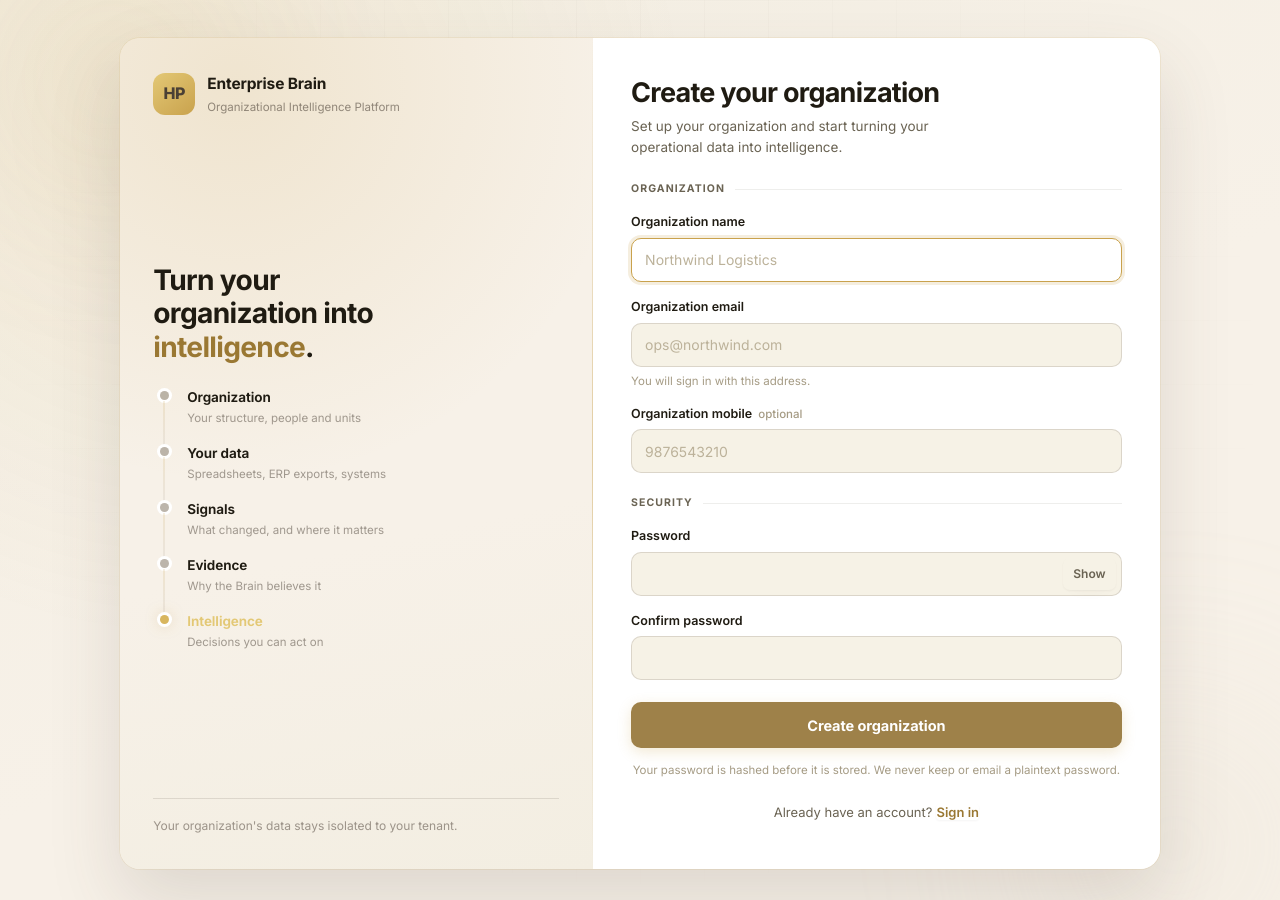
Test: Signup › clears a field error as soon as that field is edited
This screenshot has width=1280, height=900.
Submit the form named "create organization", box [631,182,1122,780]
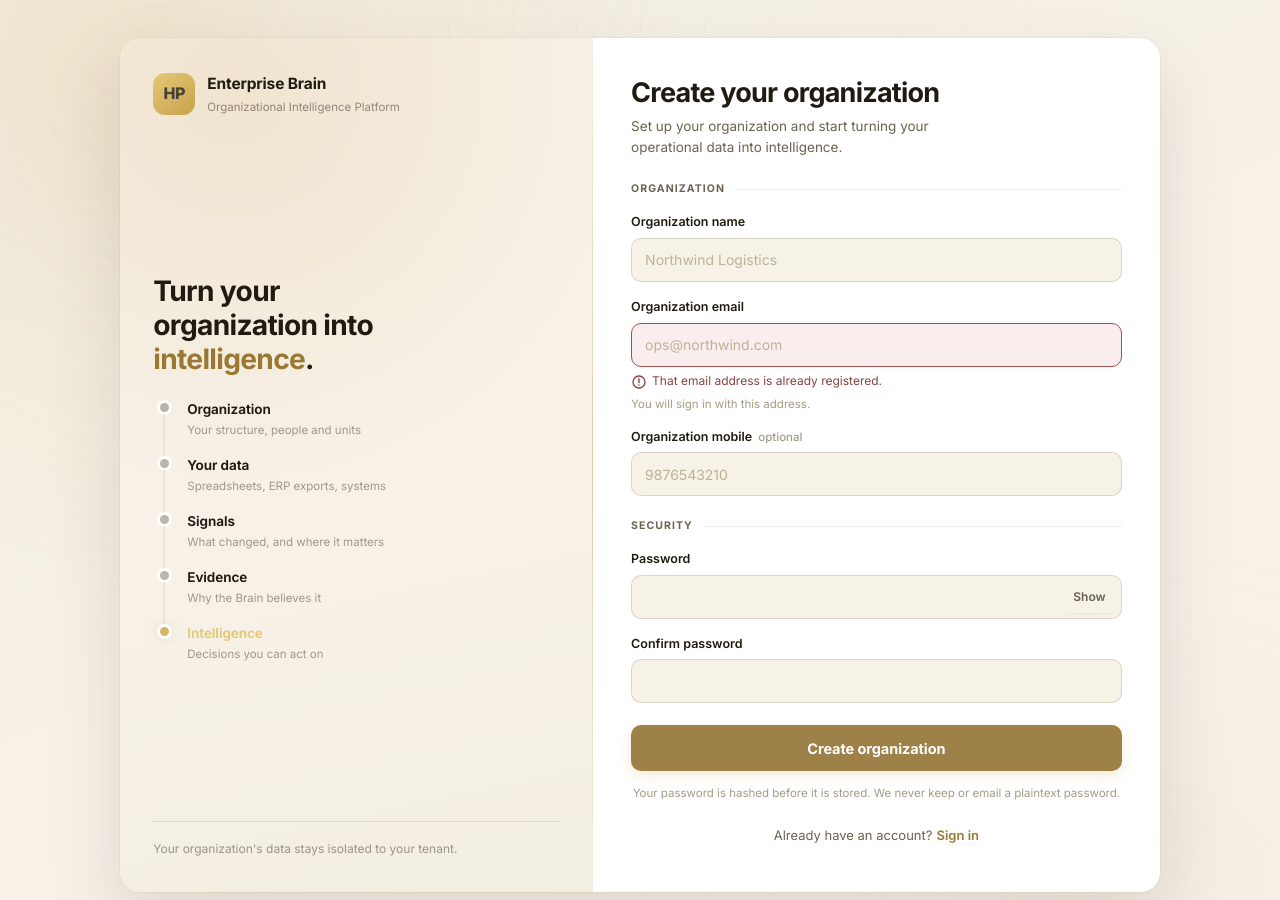
Check: the text "That email address is already registered." is shown, box [631,373,882,390]
Type "ops@southwind.example" into the field labelled "Organization email". click: (876, 345)
box: [631,323,1122,367]
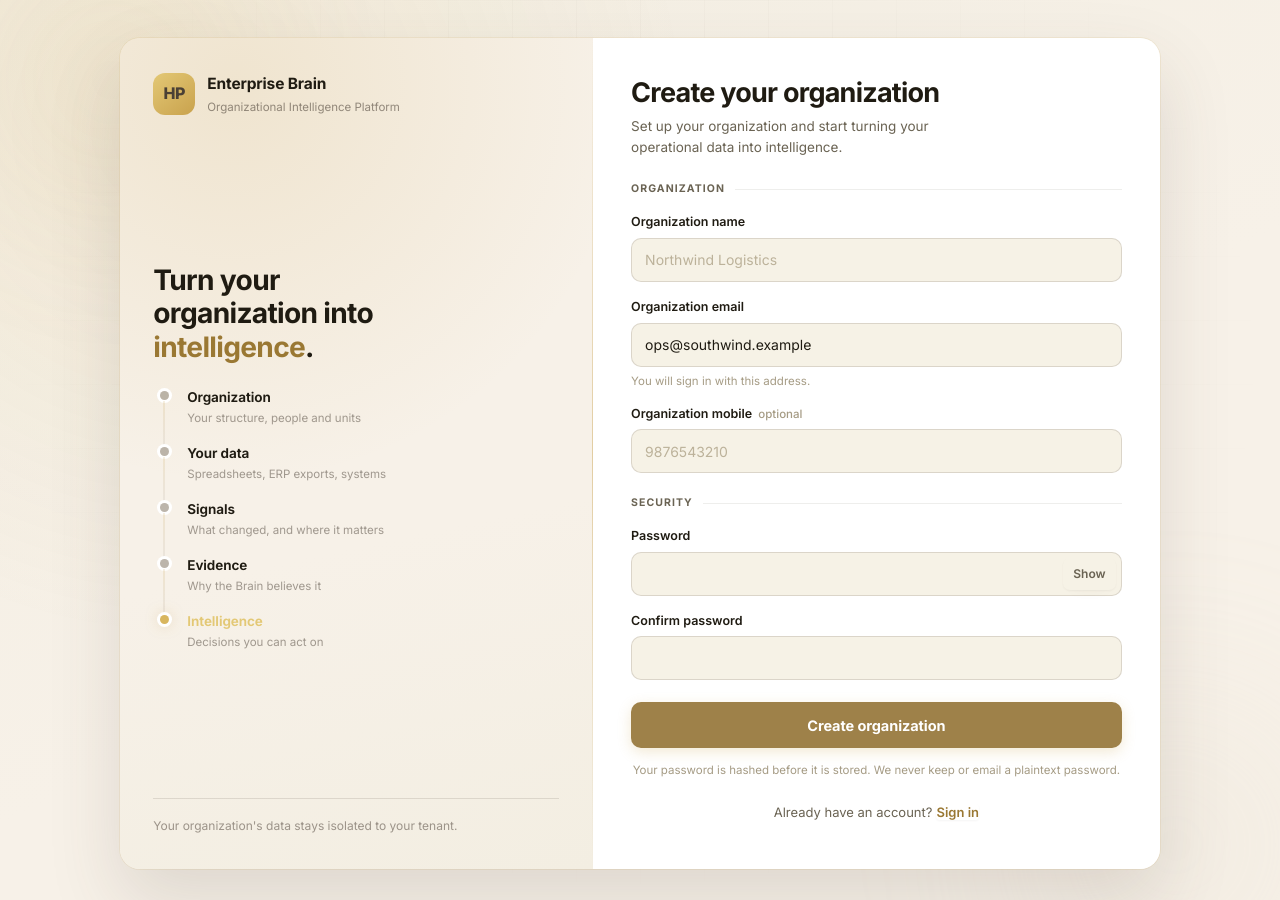
Check: the text "That email address is already registered." is gone
